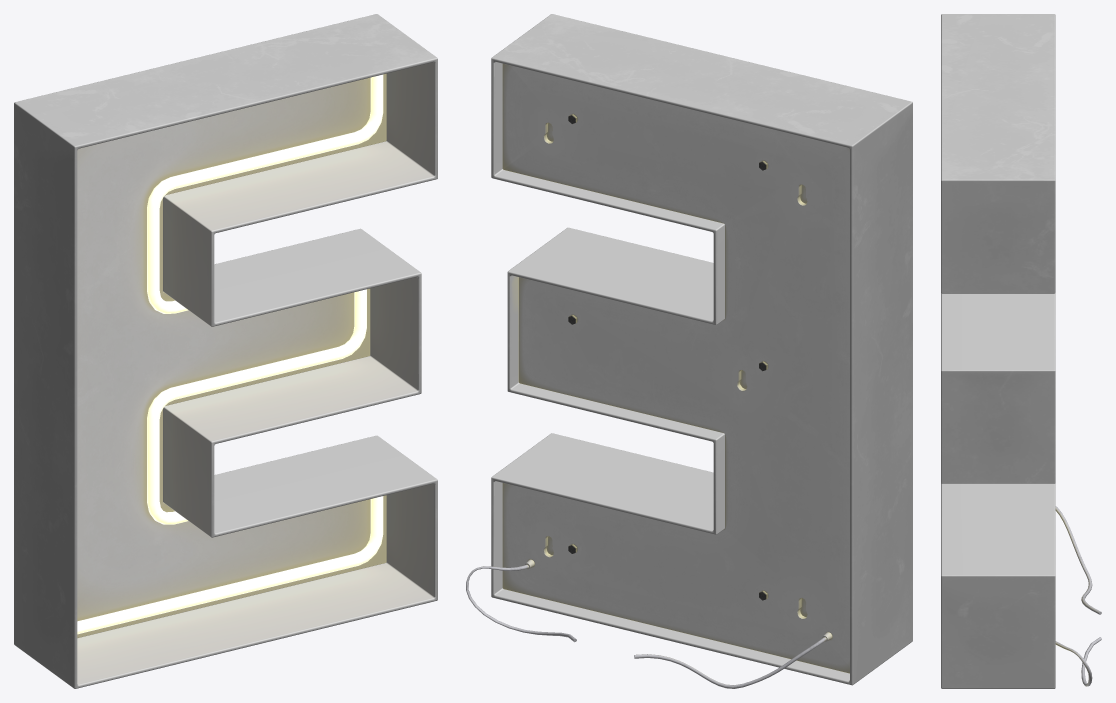
The model's file is E_Letter_bulbs_bake_light_4.glb.
3 views of the same model, side by side, from view 1: azimuth 30°, elevation 25°; view 2: azimuth 150°, elevation 25°; view 3: azimuth 270°, elevation 25° (orthographic). The views are drawn at different scales.
Parts seen in each view (by area): view 1: E_letter_neon, E_neon; view 2: E_letter_neon; view 3: E_letter_neon.
Boxes of the visible parts, box(x1,y1,x2,y2) form: E_letter_neon: box(14, 14, 437, 688); E_neon: box(77, 74, 383, 634); E_letter_neon: box(466, 14, 912, 688); E_letter_neon: box(941, 14, 1101, 688).
Bounding box in the file's own units: 0.6596 × 0.9474 × 0.2639.
2 materials, 1 textured.
